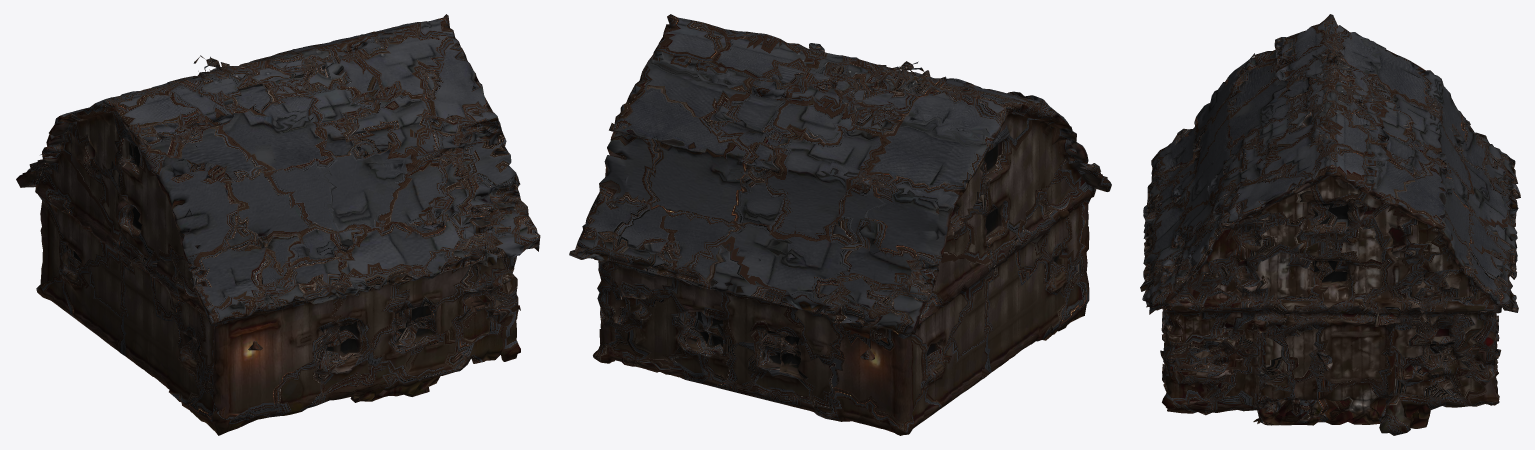
Rendered from مستودع_مهجور.glb.
The picture shows the model from 3 angles, left to right: view 1: azimuth 30°, elevation 25°; view 2: azimuth 150°, elevation 25°; view 3: azimuth 270°, elevation 25°; orthographic projection. The views are drawn at different scales.
Parts seen in each view (by area): view 1: tripo_node_45e5e0c5-e854-42cb-8579-432507c41cd1; view 2: tripo_node_45e5e0c5-e854-42cb-8579-432507c41cd1; view 3: tripo_node_45e5e0c5-e854-42cb-8579-432507c41cd1.
Part boxes in pixels (box(x1,y1,x2,y2)): tripo_node_45e5e0c5-e854-42cb-8579-432507c41cd1: box(16, 14, 540, 435); tripo_node_45e5e0c5-e854-42cb-8579-432507c41cd1: box(569, 14, 1111, 435); tripo_node_45e5e0c5-e854-42cb-8579-432507c41cd1: box(1140, 14, 1520, 435).
Bounding box in the file's own units: 0.9743 × 0.8141 × 0.9987.
Materials: 1 (1 with a texture image).
